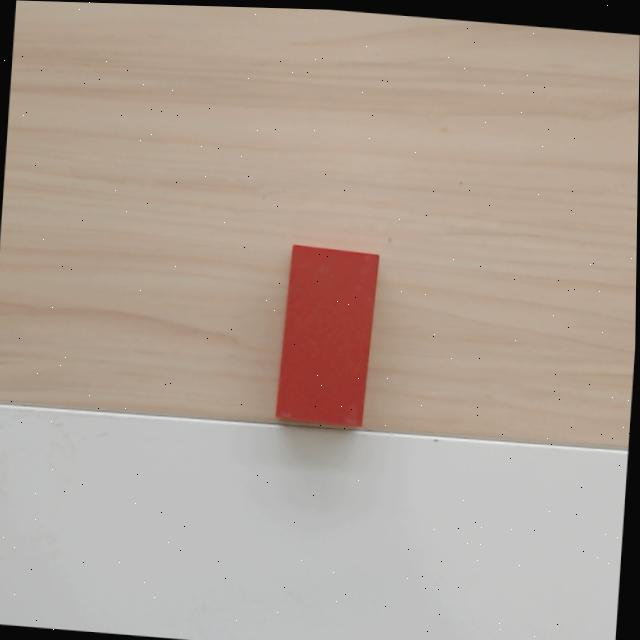Balok-Merah-1005025: (274, 244, 379, 428)
